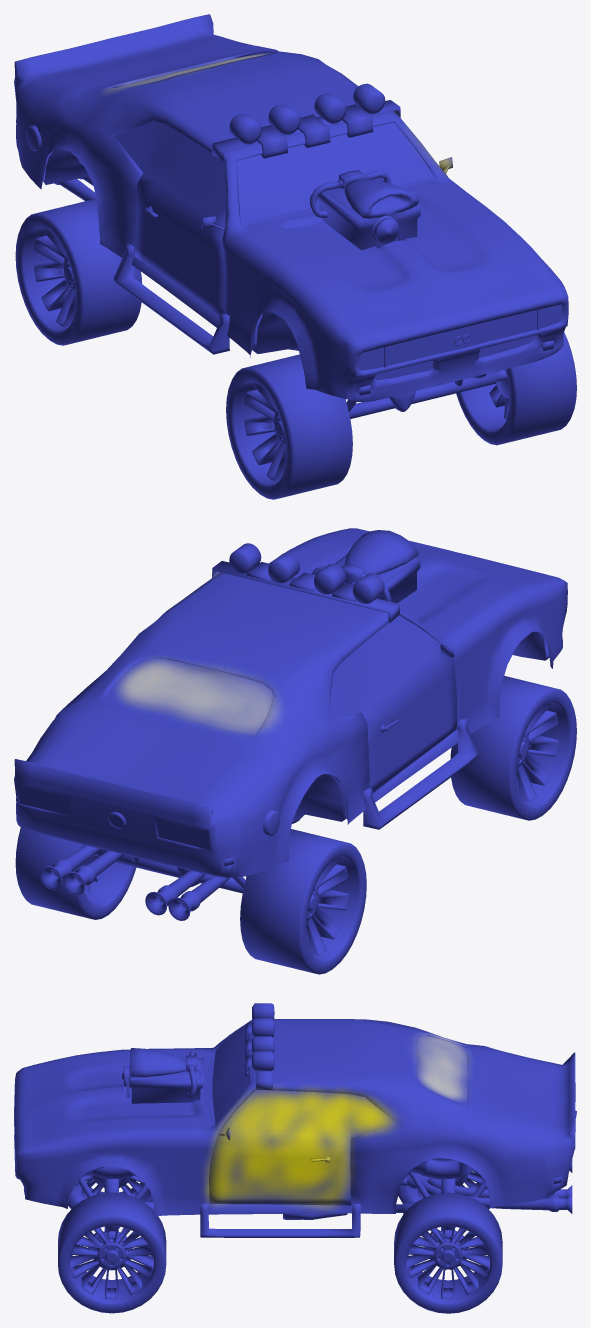
File: MarauderCarPaint.fbx
The picture shows the model from 3 angles, top to bottom: view 1: azimuth 30°, elevation 25°; view 2: azimuth 150°, elevation 25°; view 3: azimuth 270°, elevation 25°; orthographic projection. The views are drawn at different scales.
Visible parts, largest first — view 1: node_id7 (×2); view 2: node_id7 (×2); view 3: node_id7.
Part boxes in pixels (x1,y1,x2,y2): node_id7 (×2): (14, 14, 576, 499); node_id7 (×2): (14, 528, 576, 974); node_id7: (14, 1003, 575, 1313).
Bounding box in the file's own units: 0.512 × 0.4933 × 1.09.
3 materials, 3 textured.
